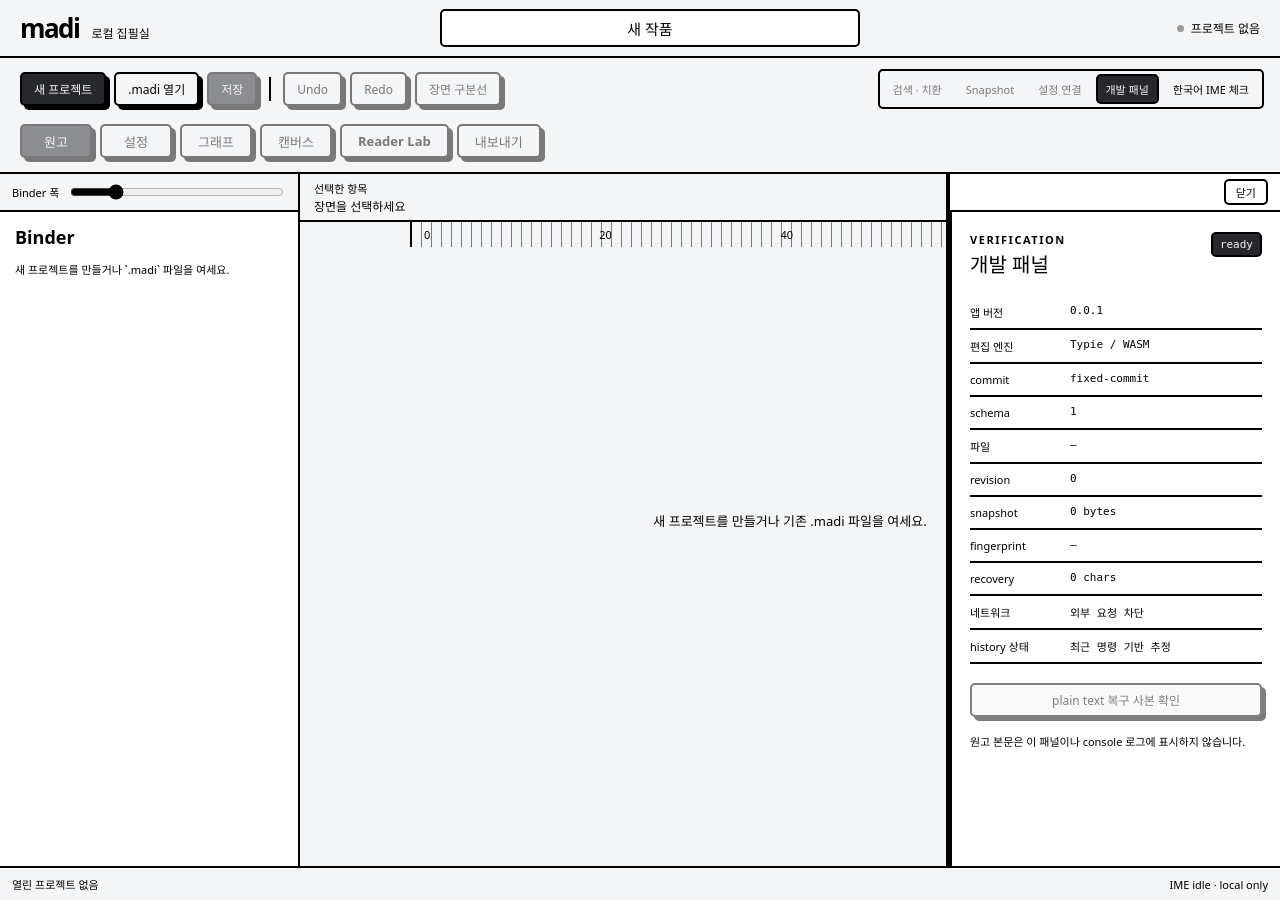
Scenario: Binder scene and chapter move integration › saves before moving chapter-1 to volume-2 and preserves child scenes and the editor
Click the button ".madi 열기": (157, 89) x1=114 y1=72 x2=199 y2=106
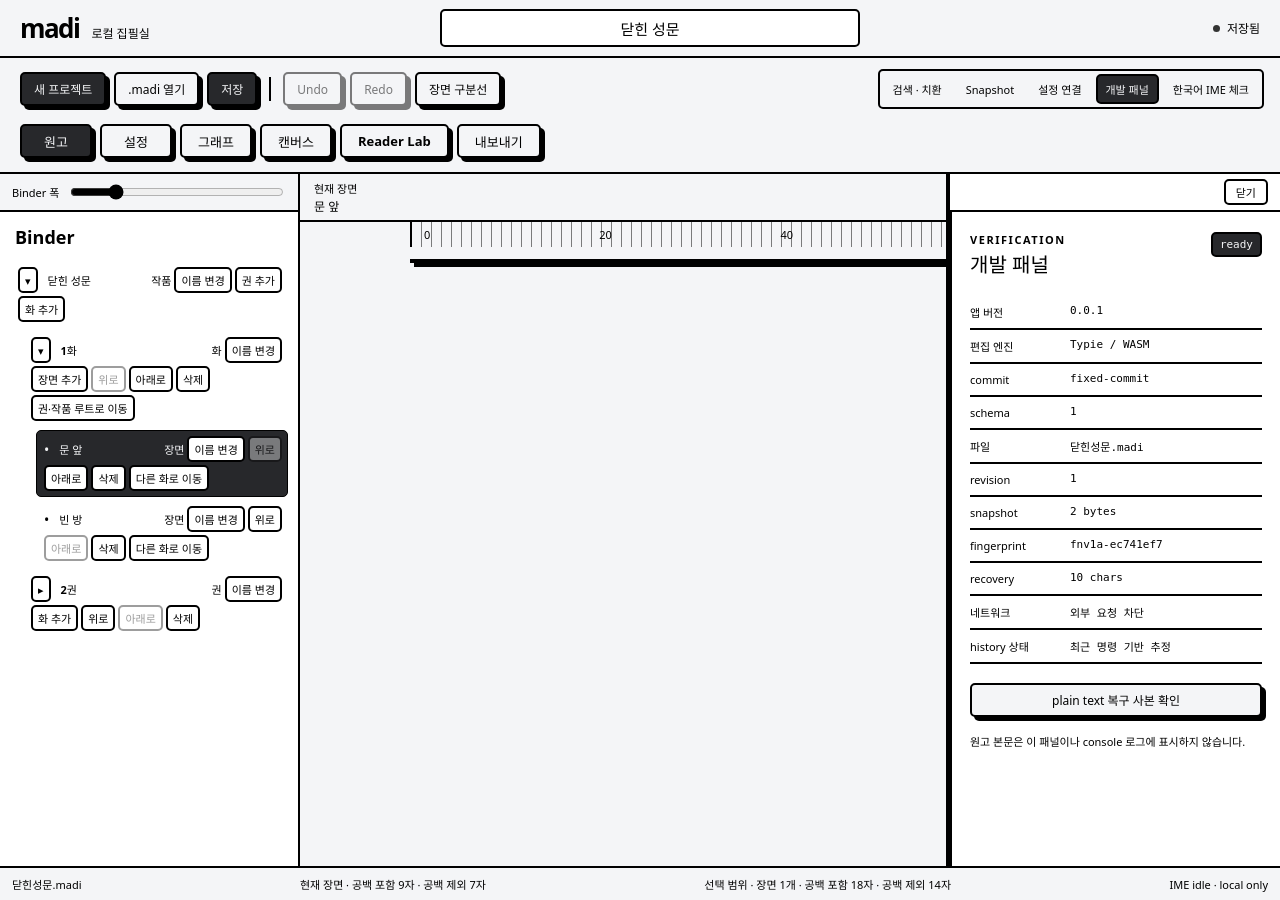
Click the button "권·작품 루트로 이동": (83, 408) x1=31 y1=395 x2=135 y2=421
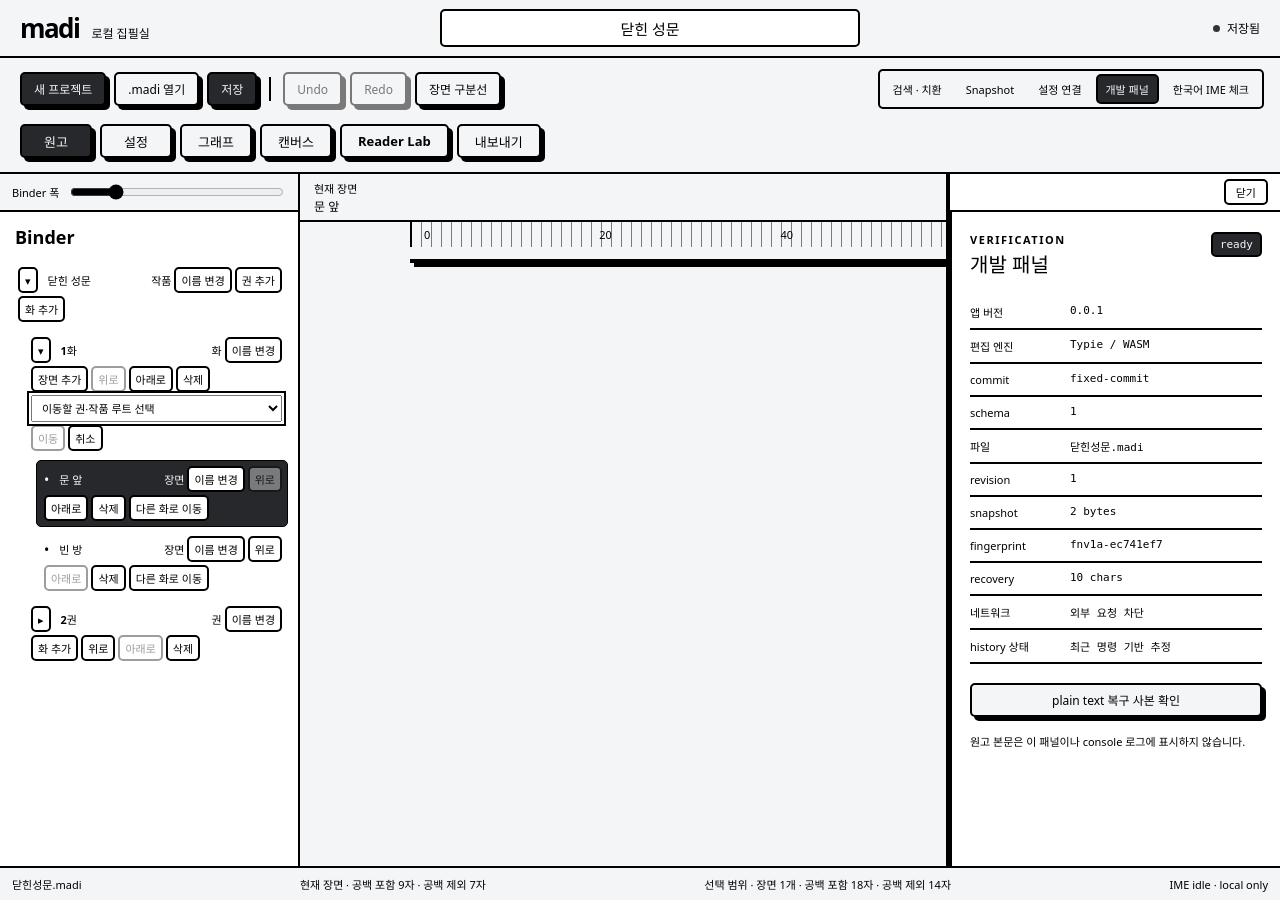
Select "닫힌 성문 / 2권" in the dropdown named "1화 이동할 권·작품 루트": (156, 408) x1=31 y1=395 x2=282 y2=422
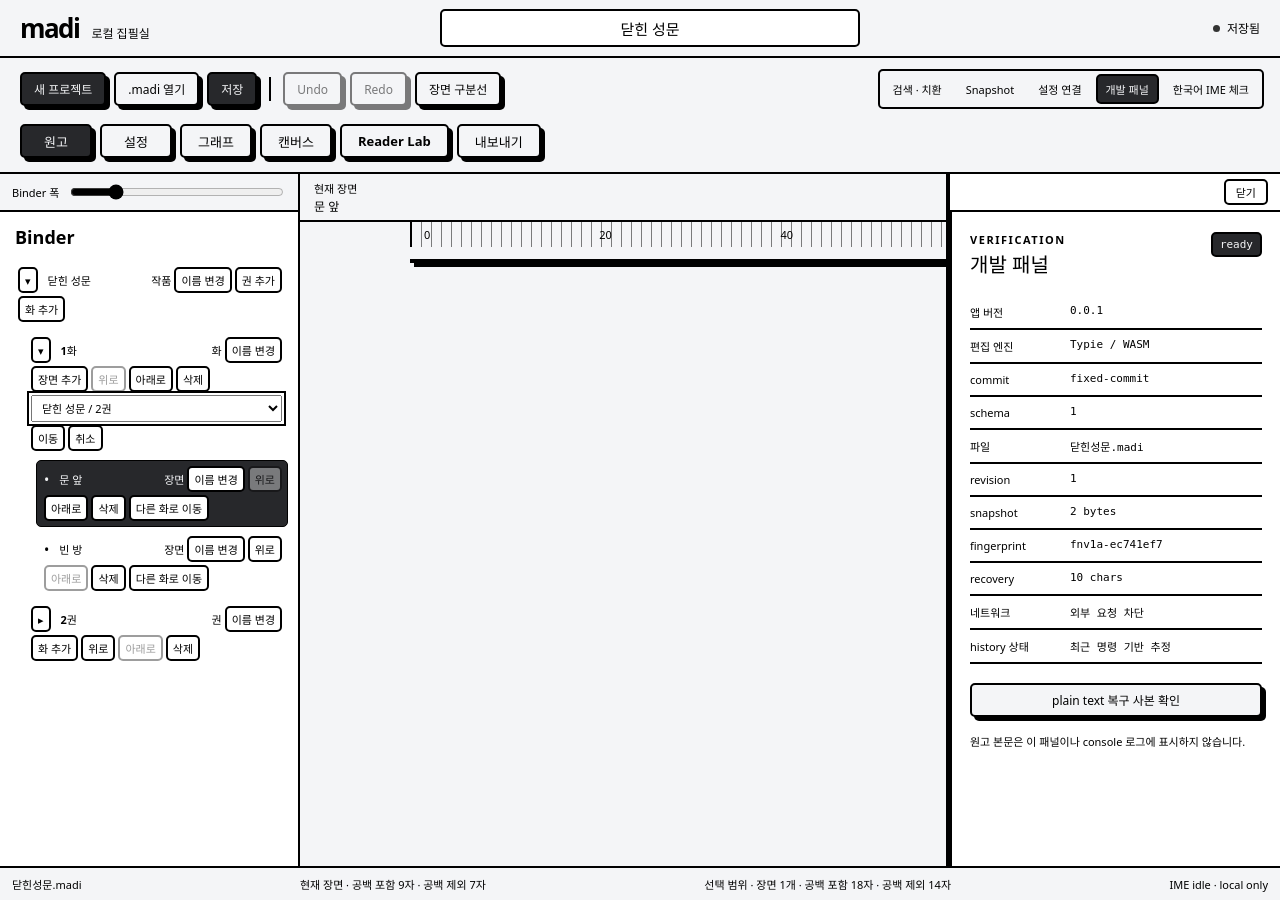
Click the button "이동": (48, 438) x1=31 y1=425 x2=65 y2=451
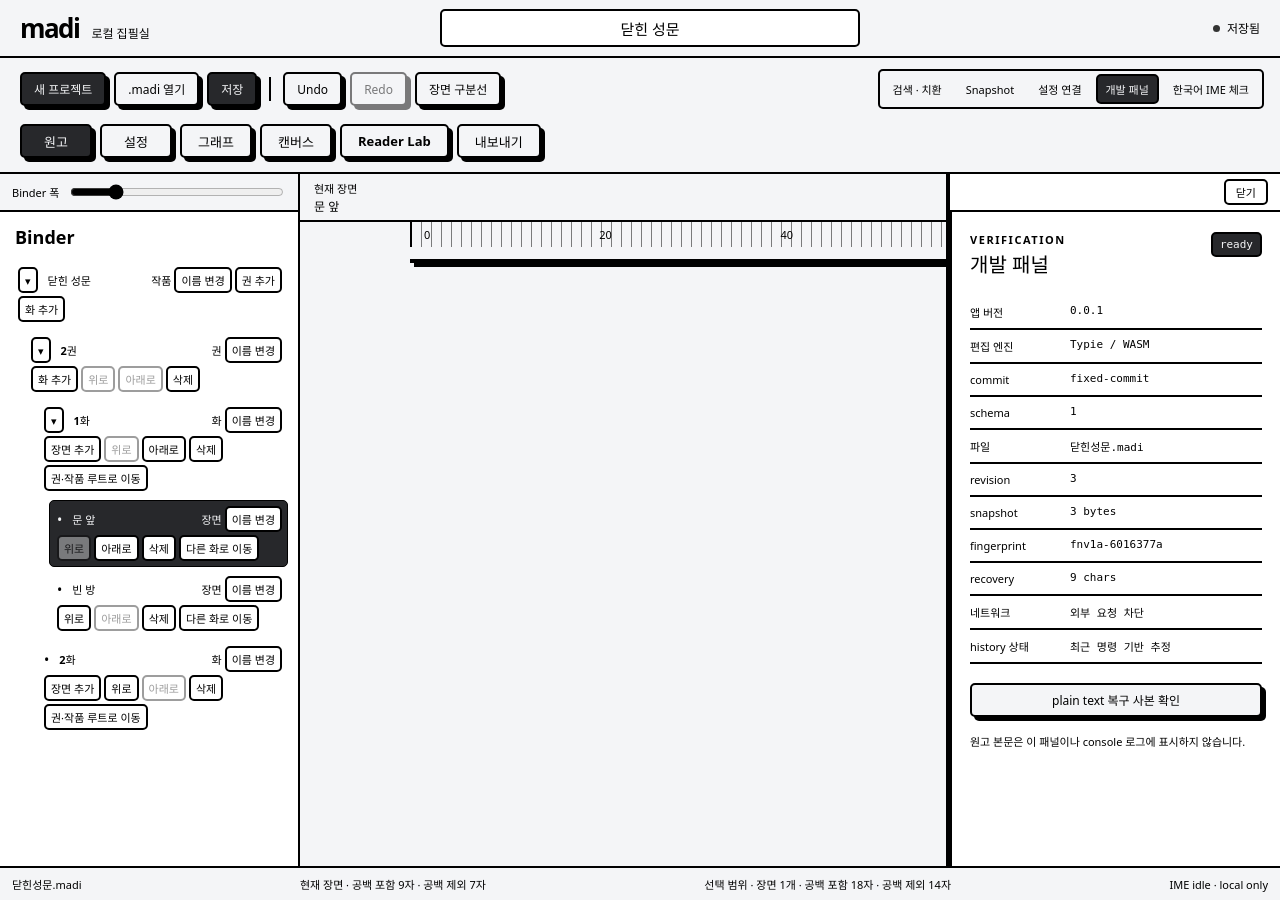
Result: the text "3" is shown at x1=1070 y1=472 x2=1077 y2=485
